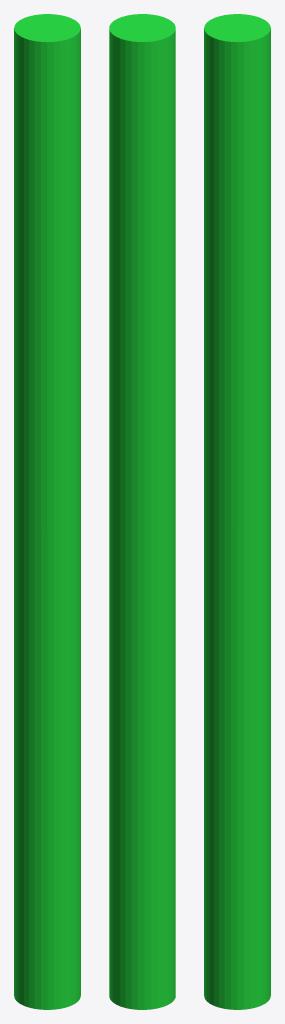
File: F2InteractablePlatform4VinesVertical.fbx
The picture shows the model from 3 angles, left to right: view 1: azimuth 90°, elevation 25°; view 2: azimuth 150°, elevation 25°; view 3: azimuth 270°, elevation 25°; orthographic projection.
Parts seen in each view (by area): view 1: Vines.003; view 2: Vines.003; view 3: Vines.003.
Part boxes in pixels (bbox=[...]): Vines.003: bbox=[14, 14, 80, 1009]; Vines.003: bbox=[109, 14, 175, 1009]; Vines.003: bbox=[204, 14, 270, 1009].
Size of the model in its own units: 5 by 80 by 5.
